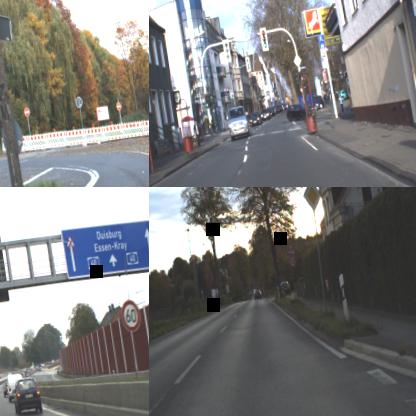NO ENTRY: (114, 100, 122, 110), (23, 106, 30, 116)
SCHOOL CROSSING: (284, 239, 296, 256)
priority road: (300, 187, 322, 211), (292, 52, 302, 68)
speed limit 50: (288, 254, 296, 268)
speed limit 60: (119, 298, 142, 332)
